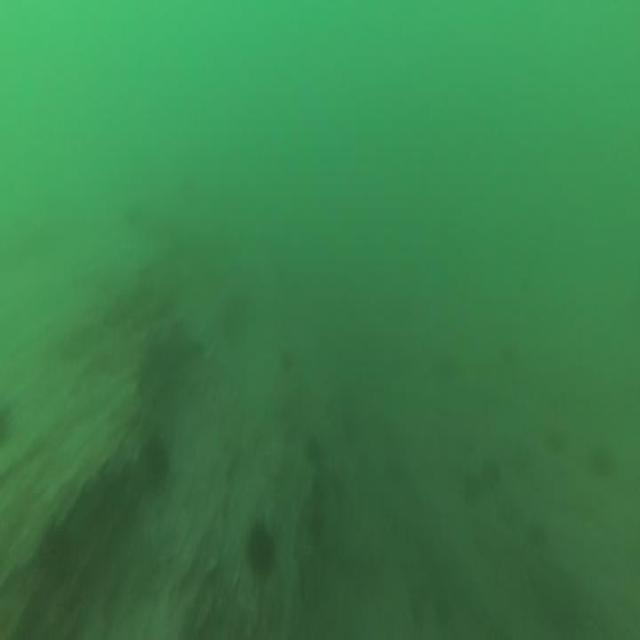echinus: (36, 518, 74, 596), (134, 428, 171, 503), (244, 514, 279, 586), (584, 438, 612, 482), (458, 468, 484, 515), (477, 452, 502, 493), (524, 514, 548, 553)
